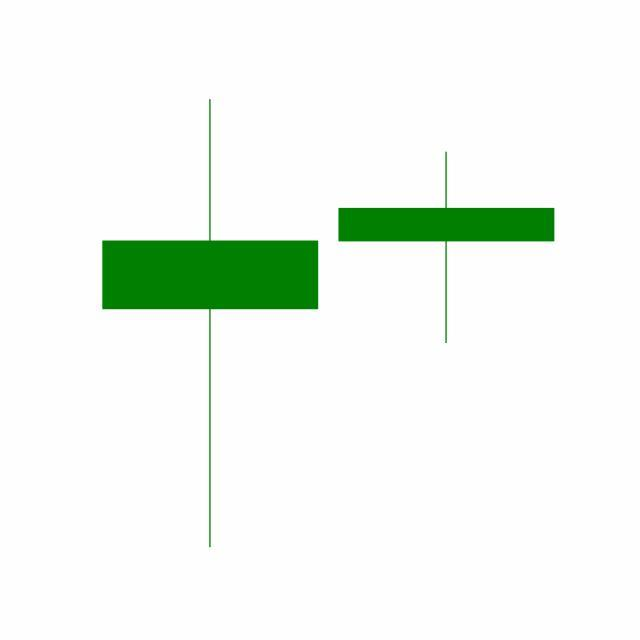Spinning Top: (328, 149, 566, 346)
